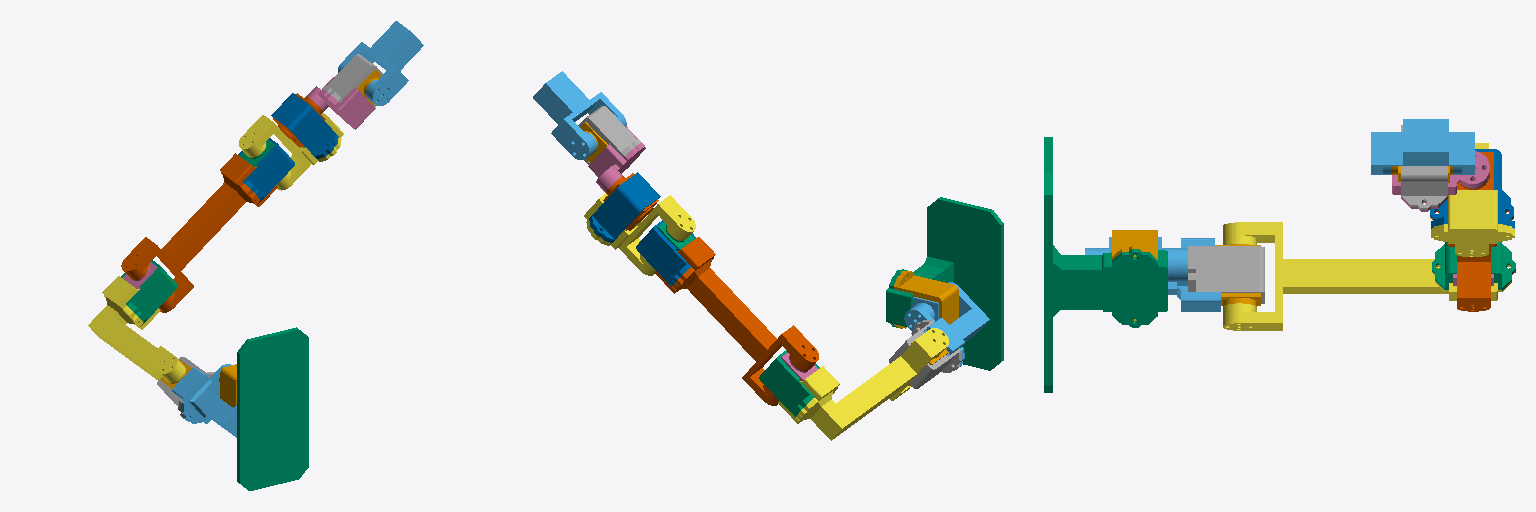
--- What the picture shows (computed from the rendered views, not written in the file) ---
Views: 3 orthographic renders of the robot side by side, from view 1: azimuth 30°, elevation 25°; view 2: azimuth 150°, elevation 25°; view 3: azimuth 270°, elevation 25°.
Model V0.01 with 19 links and 18 joints (6 revolute, 12 fixed), rooted at 1-clamp, posed every joint at zero.
Links seen in each view (by area): view 1: 1-holder, 4-holder, 3-holder, 7-horn, 2-holder, 5-holder, 5-clamp, 3-clamp, 4-clamp, 6-holder, 6-clamp, 1-clamp; view 2: 1-holder, 4-holder, 3-holder, 7-horn, 5-holder, 5-clamp, 2-holder, 1-clamp, 3-clamp, 4-clamp, 6-clamp, 6-holder (+1 smaller); view 3: 1-holder, 3-holder, 7-horn, 5-holder, 2-clamp, 2-holder, 4-holder, 6-clamp, 3-clamp, 6-holder, 1-clamp, 5-clamp (+1 smaller).
Boxes of the visible links, x1,y1,x2,y2 form: 1-holder: (237,327,308,490); 4-holder: (121,153,277,312); 3-holder: (88,276,185,382); 7-horn: (338,21,423,105); 2-holder: (172,364,236,437); 5-holder: (239,113,343,190); 5-clamp: (271,93,338,158); 3-clamp: (121,260,177,322); 4-clamp: (238,138,294,200); 6-holder: (307,77,375,129); 6-clamp: (322,54,382,106); 1-clamp: (220,364,236,407); 1-holder: (886,197,1003,370); 4-holder: (654,237,818,405); 3-holder: (778,328,948,440); 7-horn: (533,71,626,159); 5-holder: (584,194,695,275); 5-clamp: (589,172,660,242); 2-holder: (904,282,989,366); 1-clamp: (894,270,958,328); 3-clamp: (759,350,819,417); 4-clamp: (636,220,695,286); 6-clamp: (578,106,641,164); 6-holder: (588,126,645,192); 1-holder: (1044,137,1167,392); 3-holder: (1223,222,1515,330); 7-horn: (1371,119,1474,174); 5-holder: (1431,143,1514,256); 2-clamp: (1188,246,1264,303); 2-holder: (1085,238,1220,311); 4-holder: (1430,211,1513,311); 6-clamp: (1401,125,1447,209); 3-clamp: (1432,242,1515,289); 6-holder: (1392,151,1489,211); 1-clamp: (1112,230,1157,320); 5-clamp: (1431,149,1514,228).
Bounding box of the posed robot: 0.3276 × 0.2844 × 0.2943 m (x, y, z).
Meshes: 19 distinct files referenced, 19 mesh visuals loaded (19 binary STL).

The robot description file, URDF, robot "V0.01":
<?xml version='1.0' encoding='utf-8'?>
<robot name="V0.01">
    <link name="1-clamp">
        <inertial>
            <origin xyz="-0.01011633177640657 0.01995 0.012349999999998097" rpy="0.0 0.0 0.0" />
            <mass value="0.09978554550837347" />
            <inertia ixx="2.8952195540493082e-05" iyy="4.515825456914321e-05" izz="2.8802758876856415e-05" ixy="-3.3881317890172014e-21" iyz="3.3881317890172014e-21" ixz="4.6095532989579024e-18" />
        </inertial>
        <visual name="1-clamp_visual">
            <origin xyz="0.0 0.0 0.0" rpy="0.0 0.0 0.0" />
            <geometry>
                <mesh filename="meshes/1-clamp.stl" scale="0.001 0.001 0.001" />
            </geometry>
        </visual>
        <collision name="1-clamp_collision">
            <origin xyz="0.0 0.0 0.0" rpy="0.0 0.0 0.0" />
            <geometry>
                <mesh filename="meshes/1-clamp.stl" scale="0.001 0.001 0.001" />
            </geometry>
        </collision>
    </link>
    <link name="1-servo">
        <inertial>
            <origin xyz="0.022668652600844448 0.013384817444929977 0.0" rpy="0.0 -0.0 0.0" />
            <mass value="0.3033412377430849" />
            <inertia ixx="4.4115613291432376e-05" iyy="6.884216194152031e-05" izz="8.178619368144822e-05" ixy="-9.243992458147531e-07" iyz="0.0" ixz="1.3552527156068805e-20" />
        </inertial>
        <visual name="1-servo_visual">
            <origin xyz="0.0275 0.03395 0.012350000000000002" rpy="3.141592653589793 -0.0 0.0" />
            <geometry>
                <mesh filename="meshes/1-servo.stl" scale="0.001 0.001 0.001" />
            </geometry>
        </visual>
        <collision name="1-servo_collision">
            <origin xyz="0.0275 0.03395 0.012350000000000002" rpy="3.141592653589793 -0.0 0.0" />
            <geometry>
                <mesh filename="meshes/1-servo.stl" scale="0.001 0.001 0.001" />
            </geometry>
        </collision>
    </link>
    <link name="3-clamp">
        <inertial>
            <origin xyz="0.021013877672003706 -0.025350002912221684 0.016335420034933344" rpy="0.0 -0.0 2.1895288505075267e-47" />
            <mass value="0.09978554550837337" />
            <inertia ixx="3.505657462778318e-05" iyy="2.880275887685441e-05" izz="3.905387548180754e-05" ixy="4.662505252643379e-18" iyz="-1.1601532296879045e-17" ixz="-7.852673670804852e-06" />
        </inertial>
        <visual name="3-clamp_visual">
            <origin xyz="-0.07886241541715115 -0.20816977708777668 -0.07460410383819484" rpy="0.6607847676990052 -4.399952041911859e-15 -1.5707963267948943" />
            <geometry>
                <mesh filename="meshes/3-clamp.stl" scale="0.001 0.001 0.001" />
            </geometry>
        </visual>
        <collision name="3-clamp_collision">
            <origin xyz="-0.07886241541715115 -0.20816977708777668 -0.07460410383819484" rpy="0.6607847676990052 -4.399952041911859e-15 -1.5707963267948943" />
            <geometry>
                <mesh filename="meshes/3-clamp.stl" scale="0.001 0.001 0.001" />
            </geometry>
        </collision>
    </link>
    <link name="3-holder">
        <inertial>
            <origin xyz="0.014802992218350628 0.08187908906454737 -0.01105077968468336" rpy="0.0 -0.0 0.0" />
            <mass value="0.6053159680782471" />
            <inertia ixx="0.0017092076567298727" iyy="0.00018649161391586666" izz="0.0017087690553774688" ixy="-0.00014551669984162957" iyz="-0.00010142891587487405" ixz="8.685148397821206e-06" />
        </inertial>
        <visual name="3-holder_visual">
            <origin xyz="-0.048727743044277204 -0.04158488708777654 -0.07391412254871918" rpy="0.6607847676990053 -4.566490143919336e-15 -1.5707963267948946" />
            <geometry>
                <mesh filename="meshes/3-holder.stl" scale="0.001 0.001 0.001" />
            </geometry>
        </visual>
        <collision name="3-holder_collision">
            <origin xyz="-0.048727743044277204 -0.04158488708777654 -0.07391412254871918" rpy="0.6607847676990053 -4.566490143919336e-15 -1.5707963267948946" />
            <geometry>
                <mesh filename="meshes/3-holder.stl" scale="0.001 0.001 0.001" />
            </geometry>
        </collision>
    </link>
    <link name="4-clamp">
        <inertial>
            <origin xyz="0.021013886658447837 -0.02534999865889823 -0.01633541891954433" rpy="0.0 -0.0 0.0" />
            <mass value="0.09978554550837349" />
            <inertia ixx="3.505657462782481e-05" iyy="2.8802758876847728e-05" izz="3.905387548184657e-05" ixy="1.5178830414797062e-17" iyz="-1.734723475976807e-17" ixz="7.852673670806888e-06" />
        </inertial>
        <visual name="4-clamp_visual">
            <origin xyz="0.05619024493742686 0.11425000134110447 -0.030317518258676675" rpy="3.1415926535897927 0.6607847676990048 3.799768965902009e-15" />
            <geometry>
                <mesh filename="meshes/4-clamp.stl" scale="0.001 0.001 0.001" />
            </geometry>
        </visual>
        <collision name="4-clamp_collision">
            <origin xyz="0.05619024493742686 0.11425000134110447 -0.030317518258676675" rpy="3.1415926535897927 0.6607847676990048 3.799768965902009e-15" />
            <geometry>
                <mesh filename="meshes/4-clamp.stl" scale="0.001 0.001 0.001" />
            </geometry>
        </collision>
    </link>
    <link name="4-holder">
        <inertial>
            <origin xyz="0.06177489057592559 -0.0001284706911779665 0.025542981996015363" rpy="0.0 -0.0 -3.8893845486632136e-62" />
            <mass value="0.47983450816069384" />
            <inertia ixx="0.00042504499118630606" iyy="0.0010110873650053314" izz="0.0006416281961094843" ixy="2.9049535002176837e-06" iyz="2.2213391112226938e-06" ixz="-0.0003925022934107176" />
        </inertial>
        <visual name="4-holder_visual">
            <origin xyz="0.16200830710422331 -0.14033489134110486 0.08990431558337628" rpy="-2.643026242319252e-15 -0.6607847676990034 -4.259943416172875e-15" />
            <geometry>
                <mesh filename="meshes/4-holder.stl" scale="0.001 0.001 0.001" />
            </geometry>
        </visual>
        <collision name="4-holder_collision">
            <origin xyz="0.16200830710422331 -0.14033489134110486 0.08990431558337628" rpy="-2.643026242319252e-15 -0.6607847676990034 -4.259943416172875e-15" />
            <geometry>
                <mesh filename="meshes/4-holder.stl" scale="0.001 0.001 0.001" />
            </geometry>
        </collision>
    </link>
    <link name="3-servo">
        <inertial>
            <origin xyz="-0.0033451217241076358 -2.9122199052267207e-09 0.026111894687084237" rpy="4.3790577010150533e-47 -0.0 0.0" />
            <mass value="0.30334123774308486" />
            <inertia ixx="6.042418598560527e-05" iyy="8.178619368146703e-05" izz="5.2533589247357945e-05" ixy="-5.2045058495430474e-17" iyz="5.438993148936819e-18" ixz="1.175328408482887e-05" />
        </inertial>
        <visual name="3-servo_visual">
            <origin xyz="-0.08824118367096999 -0.1829500029122266 0.117342466696078" rpy="-0.9100115590958974 2.6488134805969972e-15 -1.570796326794892" />
            <geometry>
                <mesh filename="meshes/3-servo.stl" scale="0.001 0.001 0.001" />
            </geometry>
        </visual>
        <collision name="3-servo_collision">
            <origin xyz="-0.08824118367096999 -0.1829500029122266 0.117342466696078" rpy="-0.9100115590958974 2.6488134805969972e-15 -1.570796326794892" />
            <geometry>
                <mesh filename="meshes/3-servo.stl" scale="0.001 0.001 0.001" />
            </geometry>
        </collision>
    </link>
    <link name="2-clamp">
        <inertial>
            <origin xyz="0.020014095653382333 0.02661633177640656 0.015558221407464412" rpy="0.0 -0.0 -9.408131779524526e-49" />
            <mass value="0.09978554550837361" />
            <inertia ixx="3.49634266672593e-05" iyy="2.895219554048245e-05" izz="3.8997586778810795e-05" ixy="-3.740497495074991e-18" iyz="-2.9137933385547936e-18" ixz="-7.925083462254717e-06" />
        </inertial>
        <visual name="2-clamp_visual">
            <origin xyz="0.06136737653834128 -0.05204999999999995 0.032505453041272815" rpy="1.1492685581196384e-17 -0.6607847676990011 -1.467240095728787e-16" />
            <geometry>
                <mesh filename="meshes/2-clamp.stl" scale="0.001 0.001 0.001" />
            </geometry>
        </visual>
        <collision name="2-clamp_collision">
            <origin xyz="0.06136737653834128 -0.05204999999999995 0.032505453041272815" rpy="1.1492685581196384e-17 -0.6607847676990011 -1.467240095728787e-16" />
            <geometry>
                <mesh filename="meshes/2-clamp.stl" scale="0.001 0.001 0.001" />
            </geometry>
        </collision>
    </link>
    <link name="2-servo">
        <inertial>
            <origin xyz="0.010567458115360343 -0.02266865260084446 0.008214754282432403" rpy="-3.5112572660191487e-96 -0.0 0.0" />
            <mass value="0.303341237743085" />
            <inertia ixx="7.371782458846267e-05" iyy="4.41156132914021e-05" izz="7.691053103468359e-05" ixy="7.298232194965712e-07" iyz="5.673376718910283e-07" ixz="-6.272052758715633e-06" />
        </inertial>
        <visual name="2-servo_visual">
            <origin xyz="0.02821533817081712 -0.09680000000000012 -0.032467207636718606" rpy="6.988133985449974e-16 0.9100115590958957 9.643740822737166e-16" />
            <geometry>
                <mesh filename="meshes/2-servo.stl" scale="0.001 0.001 0.001" />
            </geometry>
        </visual>
        <collision name="2-servo_collision">
            <origin xyz="0.02821533817081712 -0.09680000000000012 -0.032467207636718606" rpy="6.988133985449974e-16 0.9100115590958957 9.643740822737166e-16" />
            <geometry>
                <mesh filename="meshes/2-servo.stl" scale="0.001 0.001 0.001" />
            </geometry>
        </collision>
    </link>
    <link name="2-holder">
        <inertial>
            <origin xyz="-0.018295146182878058 0.014334069369603561 -0.01165098862128819" rpy="0.0 -0.0 0.0" />
            <mass value="0.32460683329419165" />
            <inertia ixx="0.00023209694110513105" iyy="0.00024130417653495855" izz="8.460393736434743e-05" ixy="1.8683738635183593e-05" iyz="-1.3369510591923973e-05" ixz="1.4547715102541697e-05" />
        </inertial>
        <visual name="2-holder_visual">
            <origin xyz="0.01894678632166154 0.0004707516911970755 -0.03970000000000001" rpy="1.5707963267948966 1.158401951632396e-16 -0.6607847676990021" />
            <geometry>
                <mesh filename="meshes/2-holder.stl" scale="0.001 0.001 0.001" />
            </geometry>
        </visual>
        <collision name="2-holder_collision">
            <origin xyz="0.01894678632166154 0.0004707516911970755 -0.03970000000000001" rpy="1.5707963267948966 1.158401951632396e-16 -0.6607847676990021" />
            <geometry>
                <mesh filename="meshes/2-holder.stl" scale="0.001 0.001 0.001" />
            </geometry>
        </collision>
    </link>
    <link name="4-servo">
        <inertial>
            <origin xyz="-0.02611189570064008 0.0033451228394968703 -1.3410998533913698e-09" rpy="0.0 -4.3790577010150524e-47 0.0" />
            <mass value="0.303341237743085" />
            <inertia ixx="5.253358924736662e-05" iyy="6.0424185985653855e-05" izz="8.178619368142198e-05" ixy="1.1753284084850022e-05" iyz="5.030698080332742e-17" ixz="-2.25514051876985e-17" />
        </inertial>
        <visual name="4-servo_visual">
            <origin xyz="0.01379528181497788 -0.013700468376723833 -0.13905000134110426" rpy="1.5707963267949046 8.41947514504595e-16 -0.6607847676990047" />
            <geometry>
                <mesh filename="meshes/4-servo.stl" scale="0.001 0.001 0.001" />
            </geometry>
        </visual>
        <collision name="4-servo_collision">
            <origin xyz="0.01379528181497788 -0.013700468376723833 -0.13905000134110426" rpy="1.5707963267949046 8.41947514504595e-16 -0.6607847676990047" />
            <geometry>
                <mesh filename="meshes/4-servo.stl" scale="0.001 0.001 0.001" />
            </geometry>
        </collision>
    </link>
    <link name="5-holder">
        <inertial>
            <origin xyz="0.01359397290997059 -0.00015906445619719988 -0.023574274232670937" rpy="4.3790577010150533e-47 -0.0 2.736911063134411e-48" />
            <mass value="0.22663235669196308" />
            <inertia ixx="8.243705398724117e-05" iyy="0.0002099789720348531" izz="0.00016456631165871755" ixy="9.1187391341313e-07" iyz="-5.446510735820892e-08" ixz="-1.7999012583455404e-05" />
        </inertial>
        <visual name="5-holder_visual">
            <origin xyz="0.018499248156956388 0.13925000134110163 -0.02508346193501687" rpy="-3.141592653589786 0.6607847676990052 5.302543176675159e-16" />
            <geometry>
                <mesh filename="meshes/5-holder.stl" scale="0.001 0.001 0.001" />
            </geometry>
        </visual>
        <collision name="5-holder_collision">
            <origin xyz="0.018499248156956388 0.13925000134110163 -0.02508346193501687" rpy="-3.141592653589786 0.6607847676990052 5.302543176675159e-16" />
            <geometry>
                <mesh filename="meshes/5-holder.stl" scale="0.001 0.001 0.001" />
            </geometry>
        </collision>
    </link>
    <link name="5-clamp">
        <inertial>
            <origin xyz="0.021013880507937052 -0.025350001341104902 0.01633541349764279" rpy="0.0 -0.0 0.0" />
            <mass value="0.09978554550837304" />
            <inertia ixx="3.505657462779966e-05" iyy="2.8802758876885458e-05" izz="3.905387548178759e-05" ixy="-7.676151381197371e-17" iyz="4.2067044292437566e-17" ixz="-7.852673670870421e-06" />
        </inertial>
        <visual name="5-clamp_visual">
            <origin xyz="0.0031113082178578643 -0.1650000013411221 0.02239329307235174" rpy="5.239850076050334e-14 0.910011559095894 -1.711468482834923e-15" />
            <geometry>
                <mesh filename="meshes/5-clamp.stl" scale="0.001 0.001 0.001" />
            </geometry>
        </visual>
        <collision name="5-clamp_collision">
            <origin xyz="0.0031113082178578643 -0.1650000013411221 0.02239329307235174" rpy="5.239850076050334e-14 0.910011559095894 -1.711468482834923e-15" />
            <geometry>
                <mesh filename="meshes/5-clamp.stl" scale="0.001 0.001 0.001" />
            </geometry>
        </collision>
    </link>
    <link name="5-servo">
        <inertial>
            <origin xyz="0.003345128261398429 0.026111901851151434 -1.3411031929422279e-09" rpy="0.0 -0.0 0.0" />
            <mass value="0.3033412377430852" />
            <inertia ixx="6.04241859854561e-05" iyy="5.253358924727988e-05" izz="8.178619368153124e-05" ixy="-1.1753284085000079e-05" iyz="2.1684043449710089e-16" ixz="-1.457167719820518e-16" />
        </inertial>
        <visual name="5-servo_visual">
            <origin xyz="-0.006066169641649282 0.03904067389271125 -0.14005000134112236" rpy="1.570796326794913 6.826261228401675e-16 -0.6607847676990031" />
            <geometry>
                <mesh filename="meshes/5-servo.stl" scale="0.001 0.001 0.001" />
            </geometry>
        </visual>
        <collision name="5-servo_collision">
            <origin xyz="-0.006066169641649282 0.03904067389271125 -0.14005000134112236" rpy="1.570796326794913 6.826261228401675e-16 -0.6607847676990031" />
            <geometry>
                <mesh filename="meshes/5-servo.stl" scale="0.001 0.001 0.001" />
            </geometry>
        </collision>
    </link>
    <link name="6-holder">
        <inertial>
            <origin xyz="0.007541708716172764 0.022599496180974014 0.010712277985601162" rpy="-2.4651903288156624e-32 -0.0 7.006492321624087e-46" />
            <mass value="0.11843555415743529" />
            <inertia ixx="4.4822477824987814e-05" iyy="2.175473686674527e-05" izz="4.645928529654375e-05" ixy="-3.6487402236421215e-06" iyz="-5.53989154404143e-06" ixz="3.860704262750616e-06" />
        </inertial>
        <visual name="6-holder_visual">
            <origin xyz="0.08852052256171315 0.014100001564624733 -0.11233968686394469" rpy="1.5707963267948812 -0.9100115590958934 1.4882927299362467e-15" />
            <geometry>
                <mesh filename="meshes/6-holder.stl" scale="0.001 0.001 0.001" />
            </geometry>
        </visual>
        <collision name="6-holder_collision">
            <origin xyz="0.08852052256171315 0.014100001564624733 -0.11233968686394469" rpy="1.5707963267948812 -0.9100115590958934 1.4882927299362467e-15" />
            <geometry>
                <mesh filename="meshes/6-holder.stl" scale="0.001 0.001 0.001" />
            </geometry>
        </collision>
    </link>
    <link name="6-clamp">
        <inertial>
            <origin xyz="0.005455654718284428 -1.1175902869808852e-09 0.03634952024199164" rpy="0.0 -0.0 0.0" />
            <mass value="0.09978554550837294" />
            <inertia ixx="2.8895906837508867e-05" iyy="4.5158254568832164e-05" izz="2.8859047579767386e-05" ixy="3.382710778154774e-17" iyz="-1.2576745200831851e-17" ixz="7.240979143716131e-08" />
        </inertial>
        <visual name="6-clamp_visual">
            <origin xyz="-0.13779739163092267 0.014699998435376926 0.10187155844738582" rpy="-1.57079632679486 -0.6607847676990015 -3.395528481462408e-14" />
            <geometry>
                <mesh filename="meshes/6-clamp.stl" scale="0.001 0.001 0.001" />
            </geometry>
        </visual>
        <collision name="6-clamp_collision">
            <origin xyz="-0.13779739163092267 0.014699998435376926 0.10187155844738582" rpy="-1.57079632679486 -0.6607847676990015 -3.395528481462408e-14" />
            <geometry>
                <mesh filename="meshes/6-clamp.stl" scale="0.001 0.001 0.001" />
            </geometry>
        </collision>
    </link>
    <link name="6-servo">
        <inertial>
            <origin xyz="-0.017897147704988788 0.013912578224947297 0.013384816327339025" rpy="0.0 -0.0 0.0" />
            <mass value="0.3033412377430852" />
            <inertia ixx="5.830509037138207e-05" iyy="6.75967166012571e-05" izz="6.884216194047443e-05" ixy="1.8253344275156316e-05" iyz="-5.673376718400707e-07" ixz="7.298232196119303e-07" />
        </inertial>
        <visual name="6-servo_visual">
            <origin xyz="-0.15843090956546846 -0.054229974343761464 0.030249998882411477" rpy="2.2982635136200883e-14 2.7023172637217212e-14 -0.6607847676990006" />
            <geometry>
                <mesh filename="meshes/6-servo.stl" scale="0.001 0.001 0.001" />
            </geometry>
        </visual>
        <collision name="6-servo_collision">
            <origin xyz="-0.15843090956546846 -0.054229974343761464 0.030249998882411477" rpy="2.2982635136200883e-14 2.7023172637217212e-14 -0.6607847676990006" />
            <geometry>
                <mesh filename="meshes/6-servo.stl" scale="0.001 0.001 0.001" />
            </geometry>
        </collision>
    </link>
    <link name="7-horn">
        <inertial>
            <origin xyz="0.02211964142524238 -0.02026136664877793 -0.017194993296064887" rpy="0.0 -0.0 0.0" />
            <mass value="0.28812146575896763" />
            <inertia ixx="0.00013153465327975233" iyy="0.000112633473343237" izz="0.00015448867687713202" ixy="1.5154920725690096e-06" iyz="-1.178087688192751e-06" ixz="4.509304254431314e-05" />
        </inertial>
        <visual name="7-horn_visual">
            <origin xyz="-0.14783418349224156 -0.03544999865888993 -0.0614541875287782" rpy="1.5707963267949245 0.6607847676990005 3.23052010463464e-14" />
            <geometry>
                <mesh filename="meshes/7-horn.stl" scale="0.001 0.001 0.001" />
            </geometry>
        </visual>
        <collision name="7-horn_collision">
            <origin xyz="-0.14783418349224156 -0.03544999865888993 -0.0614541875287782" rpy="1.5707963267949245 0.6607847676990005 3.23052010463464e-14" />
            <geometry>
                <mesh filename="meshes/7-horn.stl" scale="0.001 0.001 0.001" />
            </geometry>
        </collision>
    </link>
    <link name="1-holder">
        <inertial>
            <origin xyz="-0.021349999999999883 -0.041014448746961626 0.021574090412184478" rpy="0.0 -0.0 0.0" />
            <mass value="0.6280816514154953" />
            <inertia ixx="0.0005040491708915909" iyy="0.0009839230221836749" izz="0.0009513530034046948" ixy="-3.767602549387128e-18" iyz="0.00011962900425494654" ixz="7.386127300057499e-19" />
        </inertial>
        <visual name="1-holder_visual">
            <origin xyz="-0.0337 -0.019950000000000002 0.0165" rpy="-0.0 1.5707963267948966 0" />
            <geometry>
                <mesh filename="meshes/1-holder.stl" scale="0.001 0.001 0.001" />
            </geometry>
        </visual>
        <collision name="1-holder_collision">
            <origin xyz="-0.0337 -0.019950000000000002 0.0165" rpy="-0.0 1.5707963267948966 0" />
            <geometry>
                <mesh filename="meshes/1-holder.stl" scale="0.001 0.001 0.001" />
            </geometry>
        </collision>
    </link>
    <joint name="1-clamp_Rigid-1" type="fixed">
        <origin xyz="0.0165 0.019950000000000002 0.0337" rpy="-0.0 -1.5707963267948966 0" />
        <parent link="1-clamp" />
        <child link="1-holder" />
    </joint>
    <joint name="1-clamp_Rigid-2" type="fixed">
        <origin xyz="-0.0275 0.03395 0.012350000000000002" rpy="3.141592653589793 -0.0 0.0" />
        <parent link="1-clamp" />
        <child link="1-servo" />
    </joint>
    <joint name="1-servo_1-yaw" type="revolute">
        <origin xyz="0.013000000000000001 -0.005750000000000002 0.0" rpy="1.5707963267948966 -0.0 0.0" />
        <parent link="1-servo" />
        <child link="2-holder" />
        <axis xyz="0.0 0.0 1.0" />
        <limit lower="-1.570796" upper="1.570796" effort="1000000" velocity="1000000" />
    </joint>
    <joint name="2-holder_Rigid-4" type="fixed">
        <origin xyz="-0.0424048 0.03296393 0.0123" rpy="1.5707963267948966 2.0029671421627253e-32 -5.551115123125783e-17" />
        <parent link="2-holder" />
        <child link="2-clamp" />
    </joint>
    <joint name="2-clamp_Rigid-5" type="fixed">
        <origin xyz="0.02860641 0.043999999999999984 0.004505069999999996" rpy="3.5437110976725134e-32 -1.5707963267948966 0" />
        <parent link="2-clamp" />
        <child link="2-servo" />
    </joint>
    <joint name="3-holder_Rigid-7" type="fixed">
        <origin xyz="0.030064509999999992 0.16658488999999999 0.0006987699999999652" rpy="-2.775557561562891e-16 -5.551115123125743e-17 4.067564042545841e-31" />
        <parent link="3-holder" />
        <child link="3-clamp" />
    </joint>
    <joint name="3-clamp_Rigid-8" type="fixed">
        <origin xyz="0.043330780000000006 -0.02535 0.015951260000000002" rpy="4.379057701015054e-47 -1.5707963267948966 0" />
        <parent link="3-clamp" />
        <child link="3-servo" />
    </joint>
    <joint name="4-holder_Rigid-10" type="fixed">
        <origin xyz="0.10566016000000002 -0.026034889999999998 0.059464050000000025" rpy="3.141592653589793 -7.88860905221012e-31 3.944304526105062e-31" />
        <parent link="4-holder" />
        <child link="4-clamp" />
    </joint>
    <joint name="4-clamp_Rigid-11" type="fixed">
        <origin xyz="0.04333079 -0.02535 -0.015951260000000005" rpy="1.5707963267948966 5.551115123125783e-17 3.944304526105059e-31" />
        <parent link="4-clamp" />
        <child link="4-servo" />
    </joint>
    <joint name="4-servo_4-pitch" type="revolute">
        <origin xyz="-0.006734650000000002 0.012518259999999995 0.0" rpy="-1.5707963267948966 -1.5777218104420234e-30 -1.2325951644078312e-32" />
        <parent link="4-servo" />
        <child link="5-holder" />
        <axis xyz="0.6137369999999999 -1.3411034749590469e-31 0.789511" />
        <limit lower="-1.570796" upper="1.570796" effort="1000000" velocity="1000000" />
    </joint>
    <joint name="5-holder_Rigid-13" type="fixed">
        <origin xyz="0.040961809999999994 -0.02575000000000003 -0.021899339999999993" rpy="3.141592653589793 1.5707963267948963 0" />
        <parent link="5-holder" />
        <child link="5-clamp" />
    </joint>
    <joint name="5-clamp_Rigid-14" type="fixed">
        <origin xyz="0.04333078999999998 -0.02535 0.015951260000000005" rpy="-1.5707963267948966 1.5707963267948966 0" />
        <parent link="5-clamp" />
        <child link="5-servo" />
    </joint>
    <joint name="5-servo_5-roll" type="revolute">
        <origin xyz="0.012518270000000022 0.0067346599999999765 0.0" rpy="-1.5707963267948963 4.7331654313260715e-30 -1.5707963267948968" />
        <parent link="5-servo" />
        <child link="6-holder" />
        <axis xyz="0.6137369999999999 1.753066580789639e-16 0.789511" />
        <limit lower="-1.570796" upper="1.570796" effort="1000000" velocity="1000000" />
    </joint>
    <joint name="6-holder_Rigid-16" type="fixed">
        <origin xyz="-0.013621080000000028 0.029349999999999987 0.025110320000000002" rpy="3.141592653589793 -1.5707963267948963 0" />
        <parent link="6-holder" />
        <child link="6-clamp" />
    </joint>
    <joint name="6-clamp_Rigid-17" type="fixed">
        <origin xyz="0.019180250000000003 -0.014000000000000021 0.04701851" rpy="-1.5707963267948966 -3.1554436208840472e-30 0.0" />
        <parent link="6-clamp" />
        <child link="6-servo" />
    </joint>
    <joint name="6-servo_6-grip" type="revolute">
        <origin xyz="-0.01026364000000001 0.007978570000000004 -0.005749999999999993" rpy="-1.5707963267948963 -0.0 0.0" />
        <parent link="6-servo" />
        <child link="7-horn" />
        <axis xyz="-0.0 1.0 -2.220446049250345e-16" />
        <limit lower="-1.570796" upper="1.570796" effort="1000000" velocity="1000000" />
    </joint>
    <joint name="2-servo_2-pitch" type="revolute">
        <origin xyz="0.02459326 -0.012999999999999989 0.019117899999999993" rpy="2.220446049250313e-16 1.5707963267948966 0" />
        <parent link="2-servo" />
        <child link="3-holder" />
        <axis xyz="-0.613737 1.7530665807896634e-16 0.789511" />
        <limit lower="-1.570796" upper="1.570796" effort="1000000" velocity="1000000" />
    </joint>
    <joint name="3-servo_3-pitch" type="revolute">
        <origin xyz="0.016614689999999994 0.0 0.029381530000000003" rpy="2.220446049250313e-16 1.5707963267948966 0" />
        <parent link="3-servo" />
        <child link="4-holder" />
        <axis xyz="-0.613737 1.7530665807896658e-16 0.7895109999999997" />
        <limit lower="-1.570796" upper="1.570796" effort="1000000" velocity="1000000" />
    </joint>
</robot>
